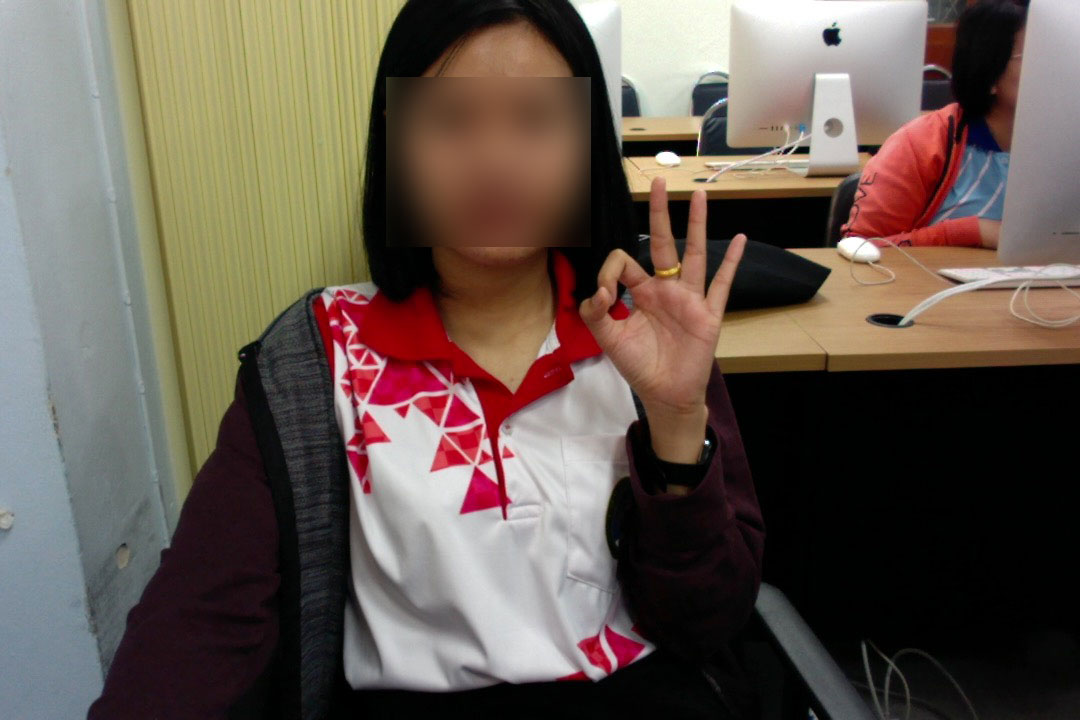for: (570, 171, 758, 417)
